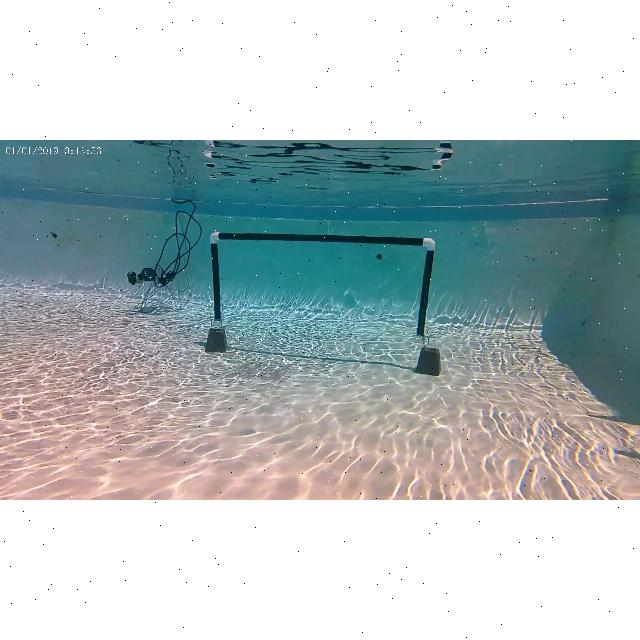prequal gate: (212, 232, 436, 338)
prequal gate leg l: (204, 231, 232, 355)
prequal gate leg r: (410, 232, 444, 376)
